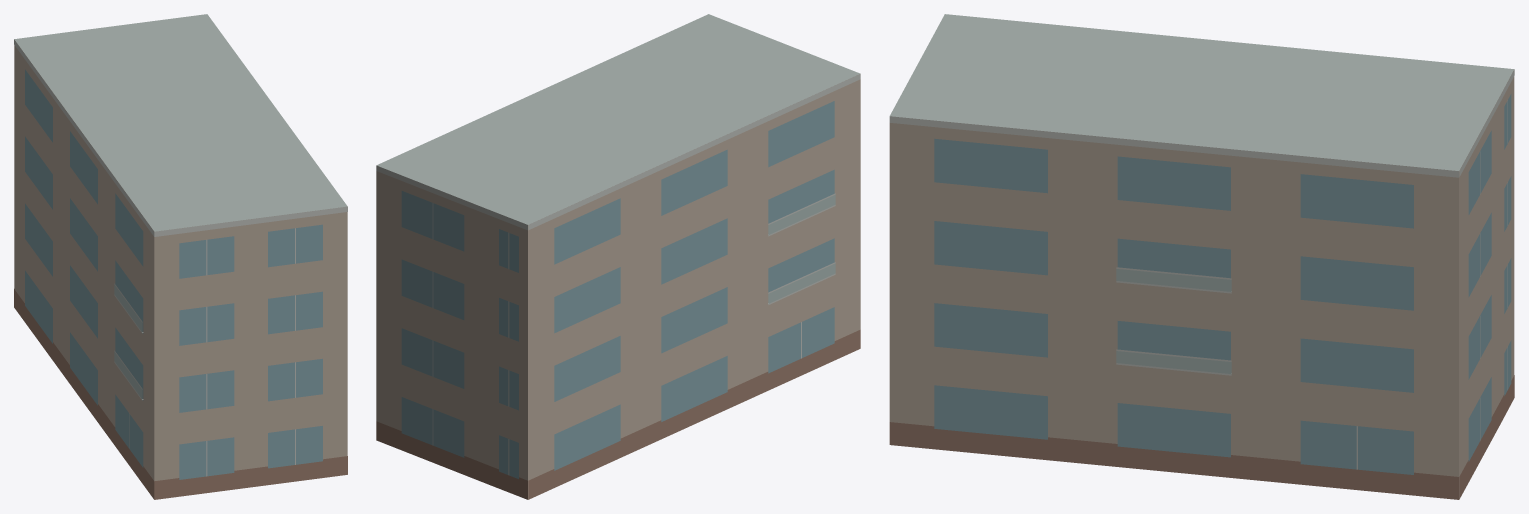
Rendered from residential-edb1c5c7-406b-442b-84be-d59a3925c3ca.glb.
3 views of the same model, side by side, from view 1: azimuth 30°, elevation 25°; view 2: azimuth 150°, elevation 25°; view 3: azimuth 270°, elevation 25° (orthographic). The views are drawn at different scales.
Parts seen in each view (by area): view 1: residential-edb1c5c7-406b-442b-84be-d59a3925c3ca.tmp; view 2: residential-edb1c5c7-406b-442b-84be-d59a3925c3ca.tmp; view 3: residential-edb1c5c7-406b-442b-84be-d59a3925c3ca.tmp.
Part boxes in pixels (left/top/right/bottom): residential-edb1c5c7-406b-442b-84be-d59a3925c3ca.tmp: left=14, top=14, right=347, bottom=499; residential-edb1c5c7-406b-442b-84be-d59a3925c3ca.tmp: left=376, top=14, right=860, bottom=499; residential-edb1c5c7-406b-442b-84be-d59a3925c3ca.tmp: left=889, top=14, right=1514, bottom=499.
Size of the model in its own units: 12.52 by 12.2 by 21.03.
